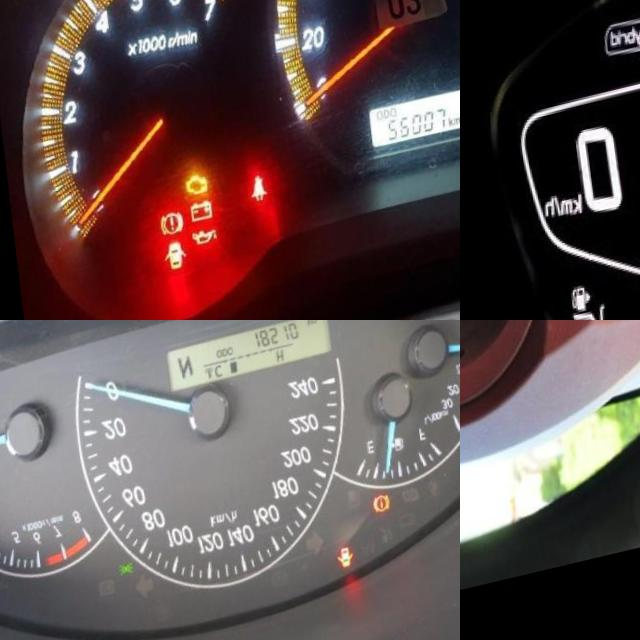Seat Belt: (240, 185, 258, 215)
